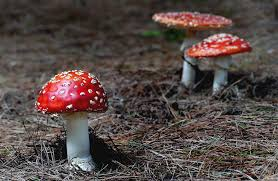Amanita muscaria: (32, 63, 110, 167), (146, 3, 233, 83), (183, 30, 254, 96)
